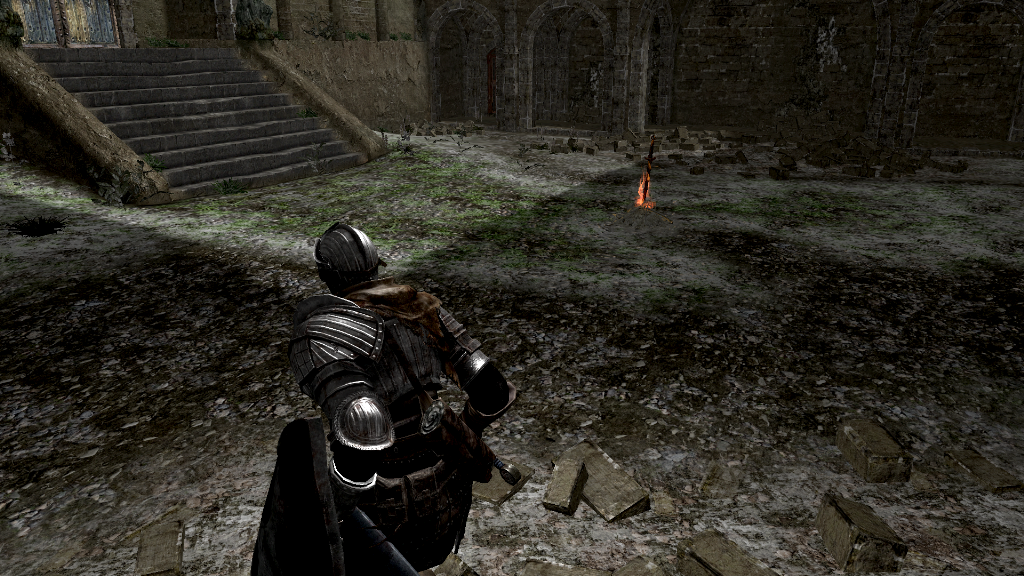bonfire: (633, 134, 662, 216)
player: (248, 221, 522, 576)
